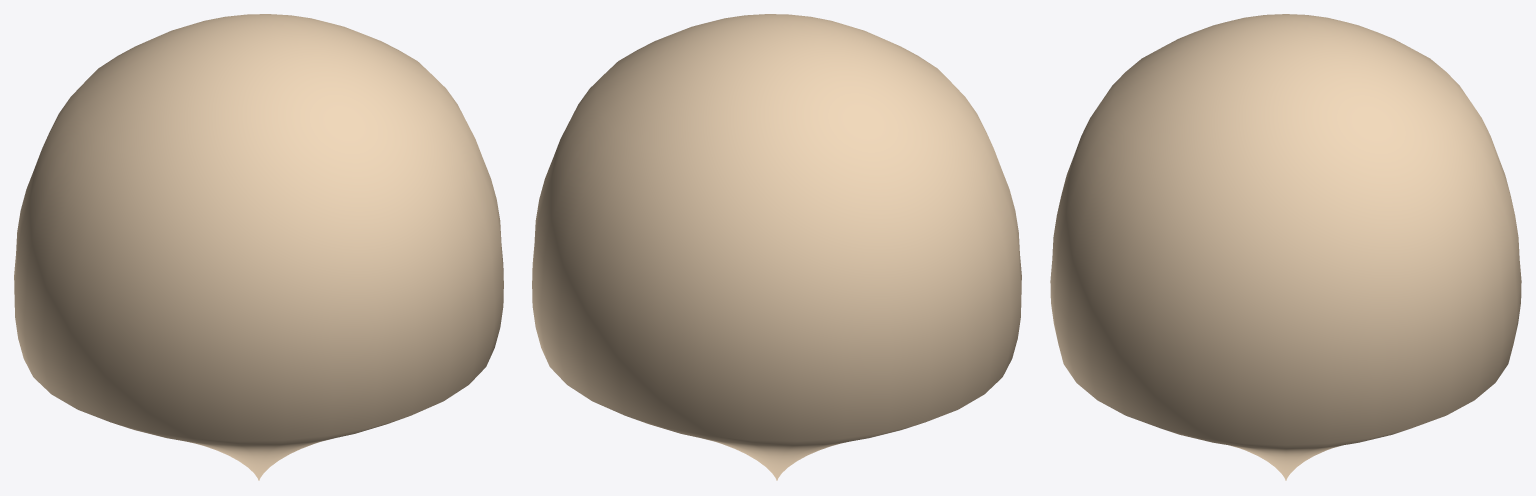
Rendered from square.glb.
The picture shows the model from 3 angles, left to right: view 1: azimuth 30°, elevation 25°; view 2: azimuth 150°, elevation 25°; view 3: azimuth 270°, elevation 25°; orthographic projection.
Visible parts, largest first — view 1: Head_square; view 2: Head_square; view 3: Head_square.
Part boxes in pixels (x1,y1,x2,y2): Head_square: [14, 14, 503, 480]; Head_square: [532, 14, 1021, 480]; Head_square: [1050, 14, 1521, 480].
Size of the model in its own units: 1.92 by 1.9 by 1.82.
